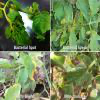Tomato Early blight leaf: (5, 53, 44, 99)
Tomato leaf bacterial spot: (5, 12, 31, 49), (29, 11, 50, 43), (76, 1, 97, 29), (85, 29, 99, 50), (62, 1, 74, 25), (67, 25, 78, 51), (80, 24, 87, 40), (78, 11, 84, 23)
Tomato two spotted spider mites leaf: (59, 56, 96, 97)
